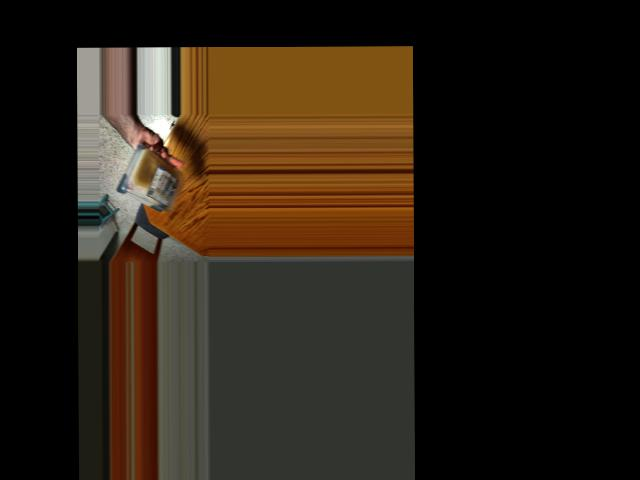cheese: (120, 145, 176, 217)
